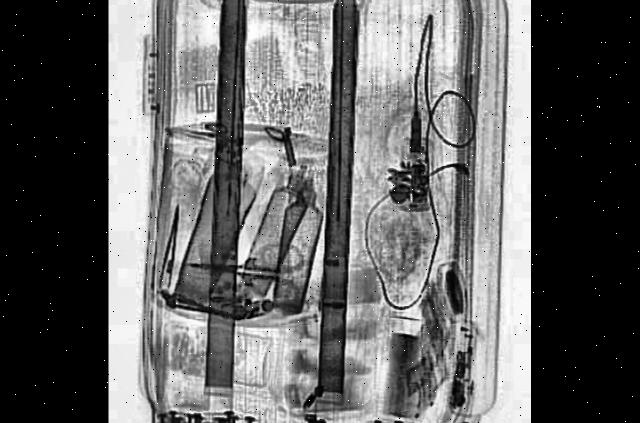Knife: (188, 255, 282, 282)
